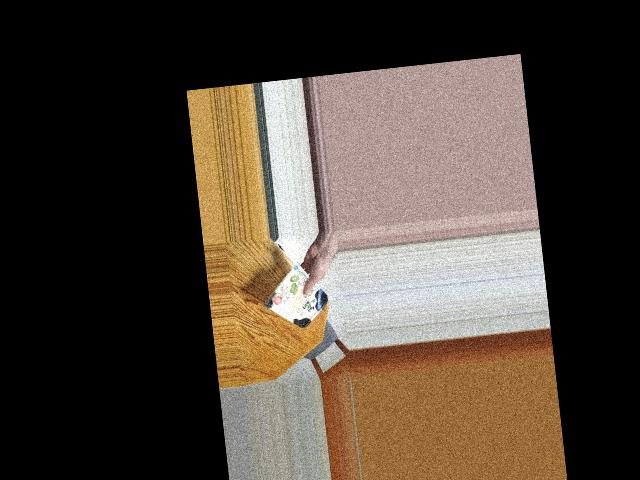cheese: (270, 272, 330, 325)
